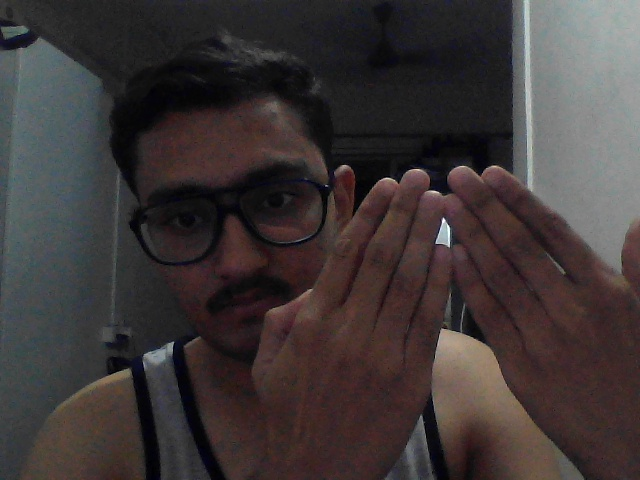Thank You: (248, 133, 640, 480)
